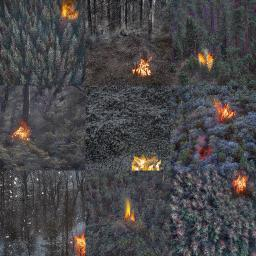Small fire: (131, 155, 162, 174), (214, 101, 237, 124), (59, 1, 82, 21), (12, 122, 33, 143), (122, 201, 140, 224), (197, 141, 216, 162), (132, 60, 154, 78), (231, 174, 250, 194), (72, 235, 89, 256), (198, 50, 214, 71)
